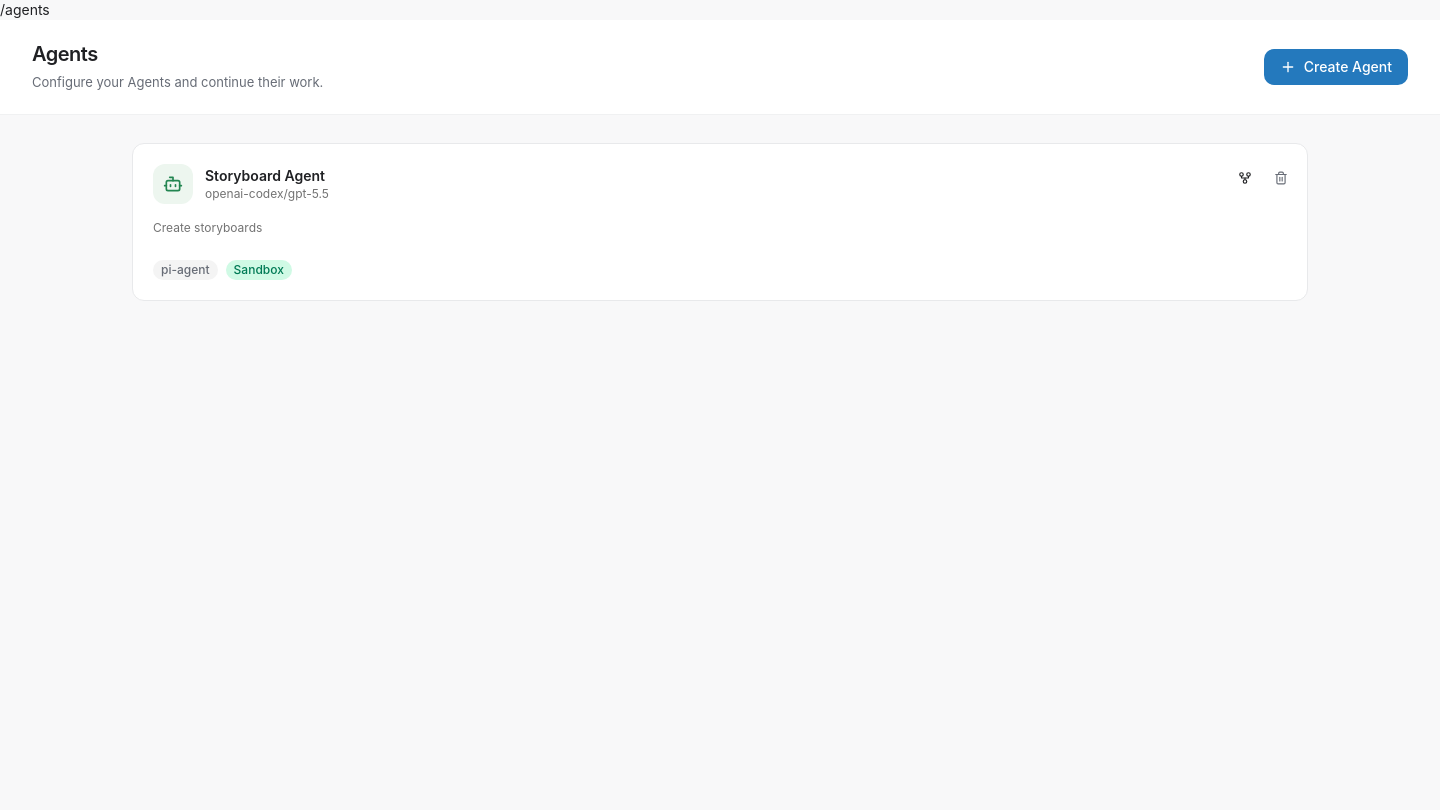
Agent list deletion › keeps an Agent when deletion fails, reports the error, and allows retry
The width and height of the screenshot is (1440, 810).
Click the button named "Delete Storyboard Agent" at (1281, 178), box x1=1263 y1=160 x2=1299 y2=196
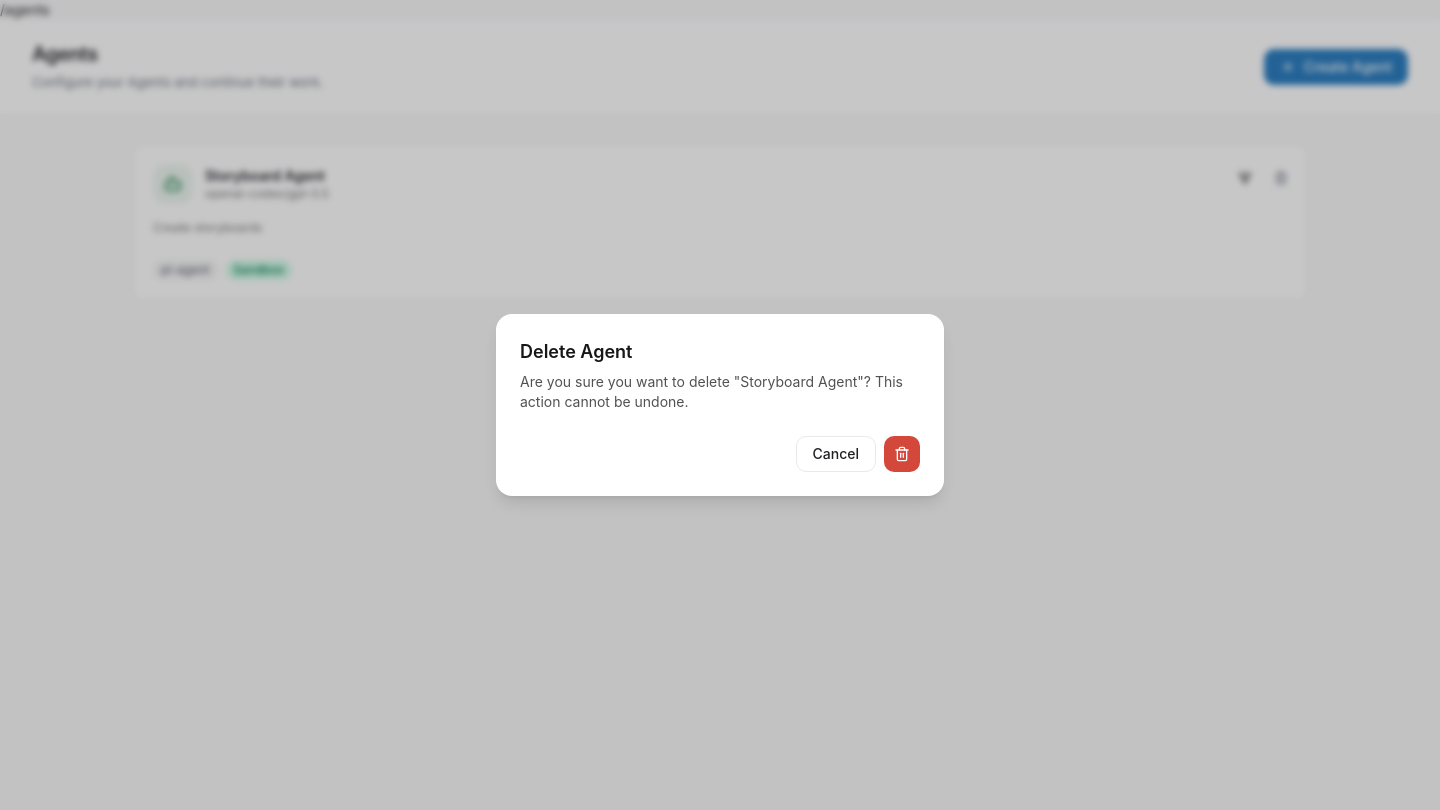
Click the button named "Delete" at (902, 454), box x1=884 y1=436 x2=920 y2=472
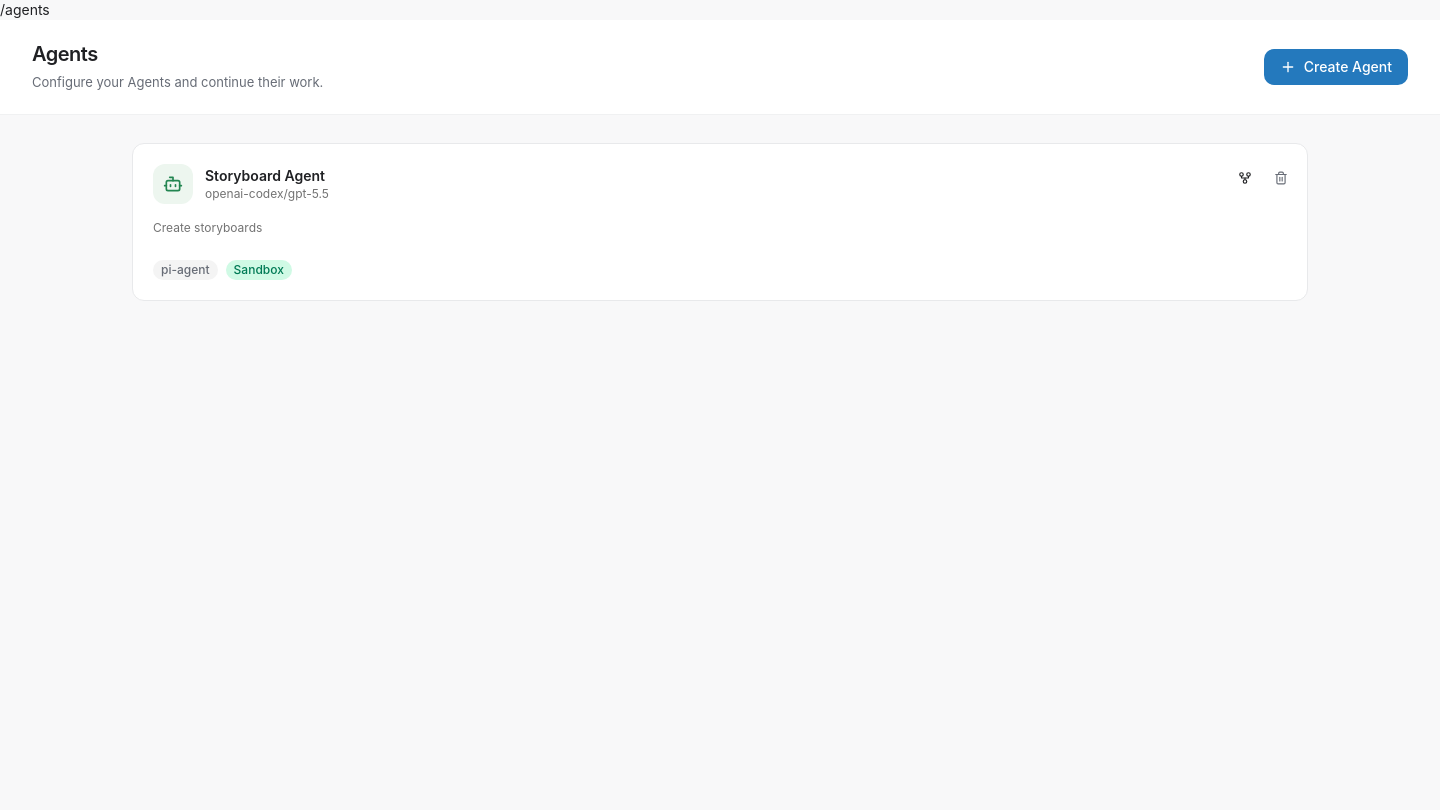
Click the button named "Delete Storyboard Agent" at (1281, 178), box x1=1263 y1=160 x2=1299 y2=196
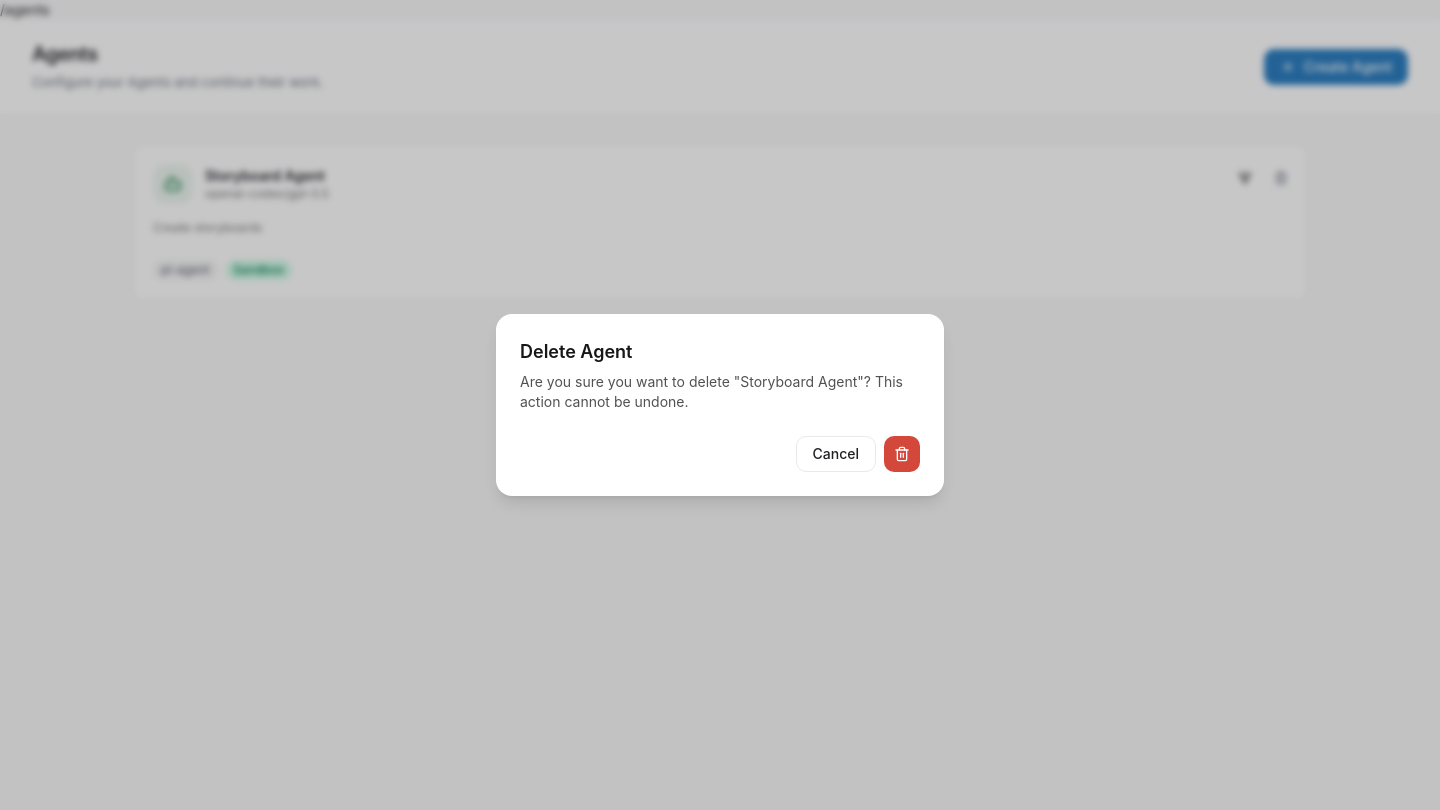
Click the button named "Delete" at (902, 454), box x1=884 y1=436 x2=920 y2=472
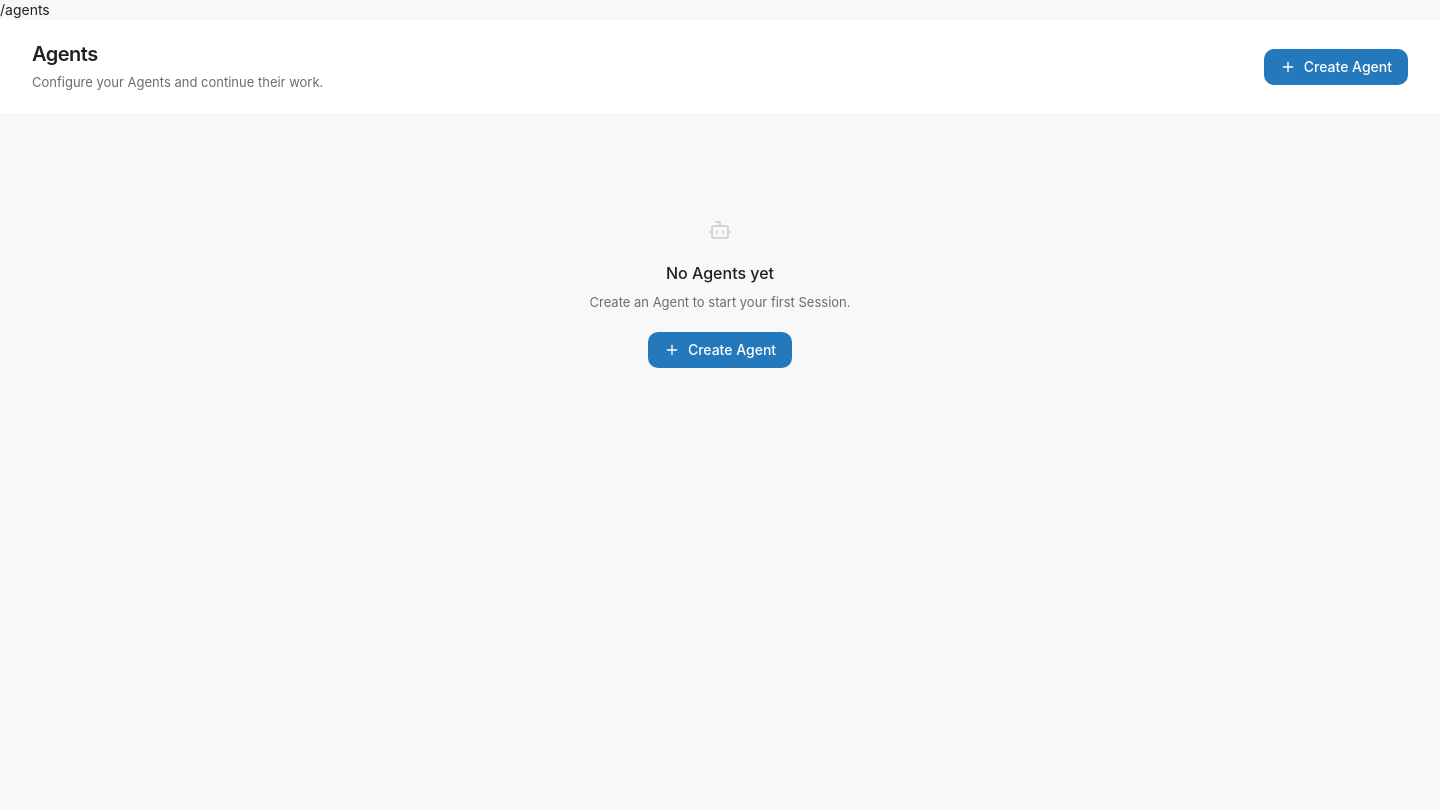
Now the heading "No Agents yet" is shown, box x1=666 y1=262 x2=774 y2=285
